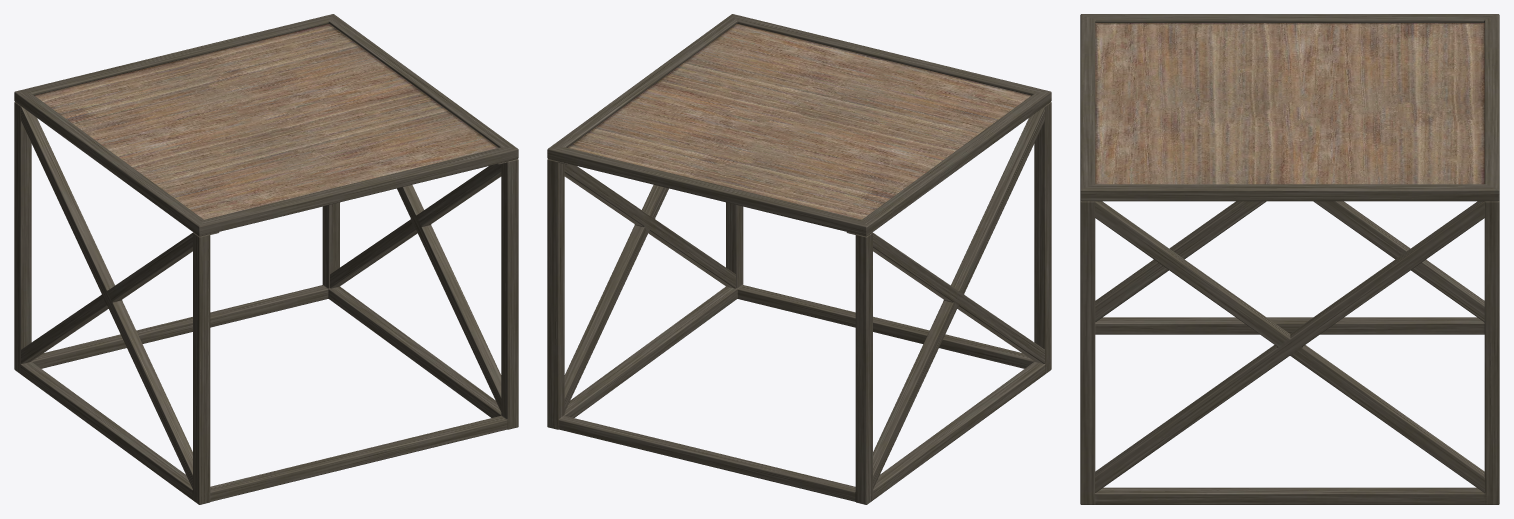
File: abo-B075Z6S9CY.glb
The picture shows the model from 3 angles, left to right: view 1: azimuth 30°, elevation 25°; view 2: azimuth 150°, elevation 25°; view 3: azimuth 270°, elevation 25°; orthographic projection. The views are drawn at different scales.
Bounding box in the file's own units: 0.609 × 0.507 × 0.611.
1 material, 1 textured.
